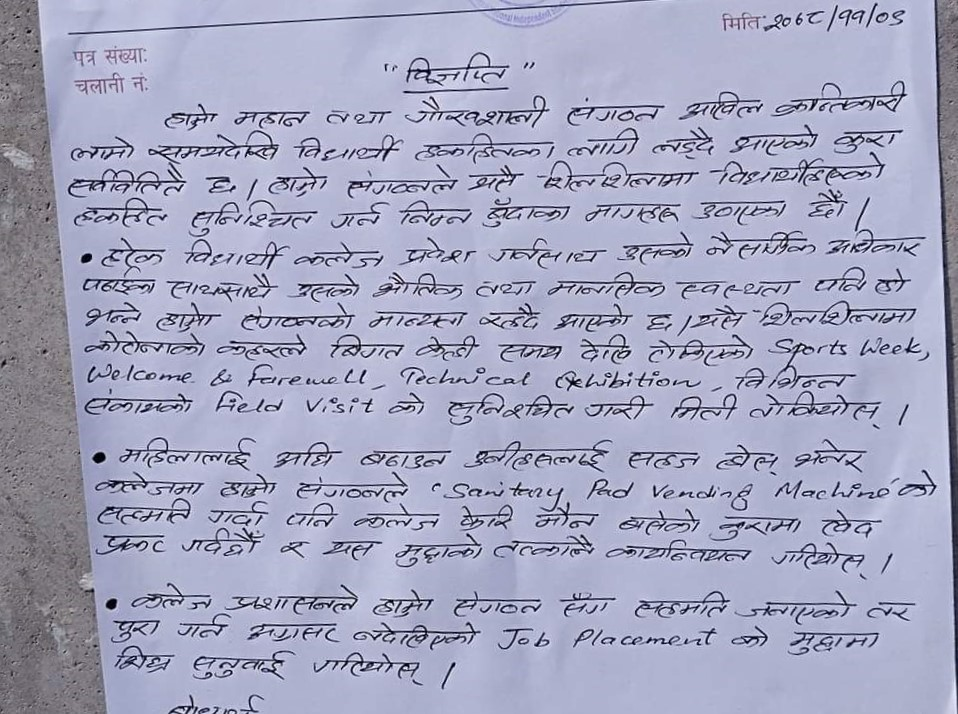text: (403, 93, 548, 132), (462, 435, 613, 472), (747, 391, 884, 431), (187, 197, 314, 238), (718, 155, 891, 185), (770, 80, 907, 117), (118, 435, 254, 472), (445, 390, 577, 428), (147, 129, 279, 165), (756, 299, 917, 327), (412, 131, 556, 162), (225, 582, 358, 615), (310, 651, 427, 687), (540, 162, 696, 189), (763, 4, 907, 33), (736, 589, 851, 625), (61, 165, 186, 198), (604, 536, 750, 564), (345, 163, 457, 199), (770, 543, 873, 581), (352, 619, 478, 650), (544, 268, 666, 300), (483, 236, 600, 269), (406, 50, 507, 88), (81, 330, 208, 360), (644, 333, 756, 366), (191, 647, 296, 682), (703, 227, 816, 259), (293, 471, 408, 502), (294, 131, 402, 163), (184, 238, 285, 272), (81, 386, 193, 416), (238, 304, 353, 333), (70, 196, 167, 230), (167, 271, 273, 302), (392, 533, 483, 569), (822, 228, 924, 260), (564, 97, 664, 129), (727, 124, 818, 159), (630, 588, 729, 619), (94, 497, 194, 527), (733, 365, 848, 391), (676, 276, 795, 301), (481, 196, 571, 229), (491, 534, 597, 562), (678, 89, 765, 123), (93, 471, 202, 498), (292, 240, 386, 271), (371, 271, 464, 302), (350, 502, 440, 534), (691, 197, 787, 227), (788, 627, 880, 658), (615, 229, 694, 265), (562, 125, 641, 160), (128, 582, 213, 614), (180, 529, 267, 560), (451, 590, 542, 619), (791, 438, 866, 473), (367, 306, 467, 332), (710, 513, 802, 541), (358, 445, 448, 473), (213, 334, 308, 360), (615, 508, 703, 536), (551, 303, 630, 334), (245, 621, 341, 646), (650, 127, 718, 162), (584, 201, 679, 226), (79, 267, 158, 297), (290, 271, 363, 303), (668, 392, 740, 424), (327, 333, 406, 362), (398, 236, 473, 266), (100, 235, 164, 270), (400, 199, 473, 229), (713, 442, 779, 475), (266, 164, 329, 198), (831, 124, 900, 155), (413, 330, 478, 362), (623, 447, 700, 474), (155, 300, 216, 334), (582, 393, 651, 423), (96, 531, 167, 560), (271, 440, 336, 471), (575, 333, 634, 367), (476, 303, 542, 333), (371, 588, 434, 619), (231, 107, 312, 131), (69, 136, 137, 164), (113, 642, 172, 674), (820, 507, 878, 539), (205, 497, 266, 527), (456, 503, 516, 533), (533, 506, 598, 533), (160, 101, 218, 131), (328, 201, 386, 231), (496, 340, 565, 365), (464, 164, 519, 195), (283, 500, 339, 529), (811, 265, 869, 293), (83, 301, 142, 328), (691, 302, 744, 332), (218, 473, 276, 500), (474, 276, 538, 300), (558, 590, 612, 618), (323, 107, 388, 129), (320, 538, 379, 562), (109, 618, 161, 644), (807, 189, 849, 220), (174, 616, 228, 640), (865, 598, 913, 624), (872, 264, 910, 296), (729, 623, 772, 650), (387, 392, 428, 415), (274, 537, 310, 563), (204, 172, 239, 196), (644, 310, 676, 333)
